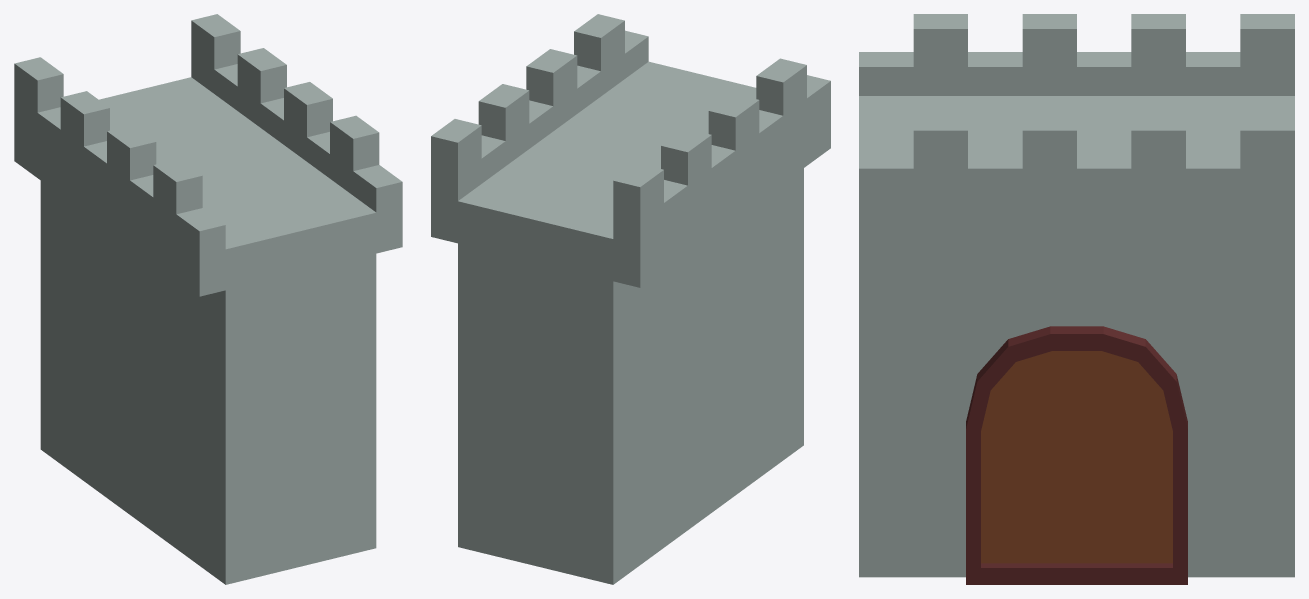
The model's file is WallWithDoor.fbx.
The picture shows the model from 3 angles, left to right: view 1: azimuth 30°, elevation 25°; view 2: azimuth 150°, elevation 25°; view 3: azimuth 270°, elevation 25°; orthographic projection. The views are drawn at different scales.
Visible parts, largest first — view 1: Cube.001; view 2: Cube.001; view 3: Cube.001.
Part boxes in pixels (left/top/right/bottom): Cube.001: left=14, top=14, right=402, bottom=584; Cube.001: left=431, top=14, right=830, bottom=584; Cube.001: left=859, top=14, right=1294, bottom=584.
Size of the model in its own units: 131 by 242 by 207.
